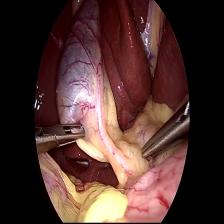Grasper: (140, 95, 188, 172), (50, 114, 87, 153)
